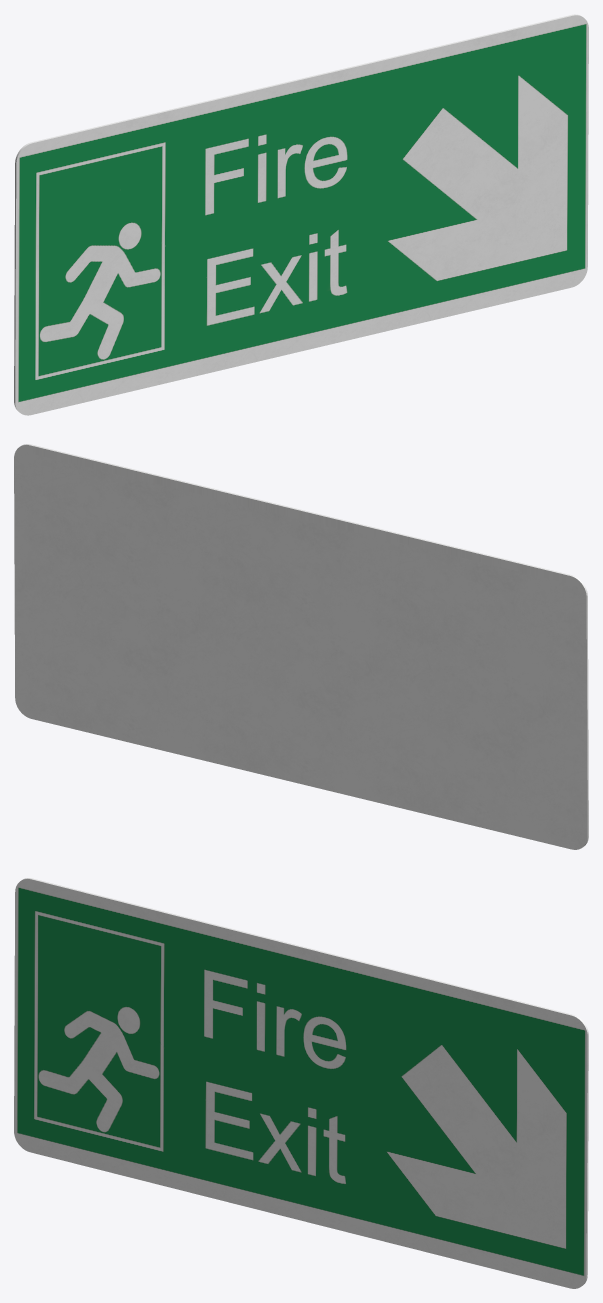
The model's file is exit_sign_board.glb.
3 views of the same model, one above another, from view 1: azimuth 30°, elevation 25°; view 2: azimuth 150°, elevation 25°; view 3: azimuth 330°, elevation 25° (orthographic).
Visible parts, largest first — view 1: Sign_0; view 2: Sign_0; view 3: Sign_0.
Part boxes in pixels (left/top/right/bottom): Sign_0: left=14, top=14, right=588, bottom=415; Sign_0: left=14, top=444, right=588, bottom=849; Sign_0: left=14, top=878, right=588, bottom=1288.
Bounding box in the file's own units: 0.693 × 0.3177 × 0.00615.
Materials: 1 (1 with a texture image).
